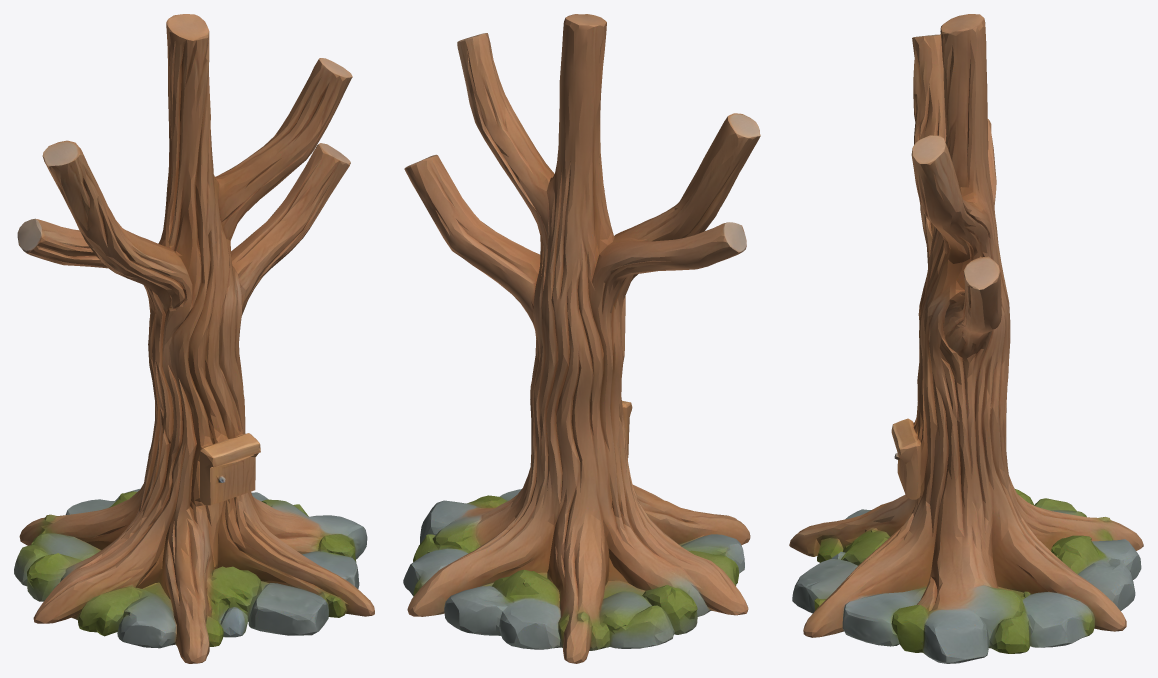
3 renders of one model, left to right at view 1: azimuth 30°, elevation 25°; view 2: azimuth 150°, elevation 25°; view 3: azimuth 270°, elevation 25°, orthographic.
Visible parts, largest first — view 1: Mesh; view 2: Mesh; view 3: Mesh.
Boxes of the visible parts, left/top/right/bottom form: Mesh: left=14, top=14, right=374, bottom=663; Mesh: left=403, top=14, right=760, bottom=663; Mesh: left=789, top=14, right=1143, bottom=663.
Size of the model in its own units: 1.17 by 1.89 by 1.08.
1 material, 1 textured.
